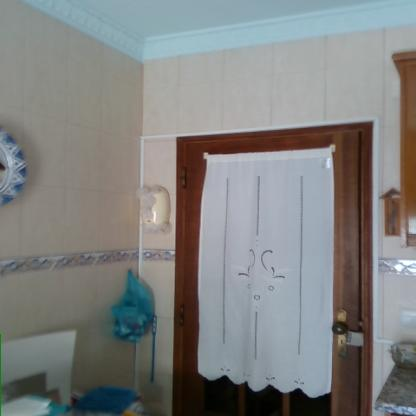closed: (166, 116, 378, 416)
